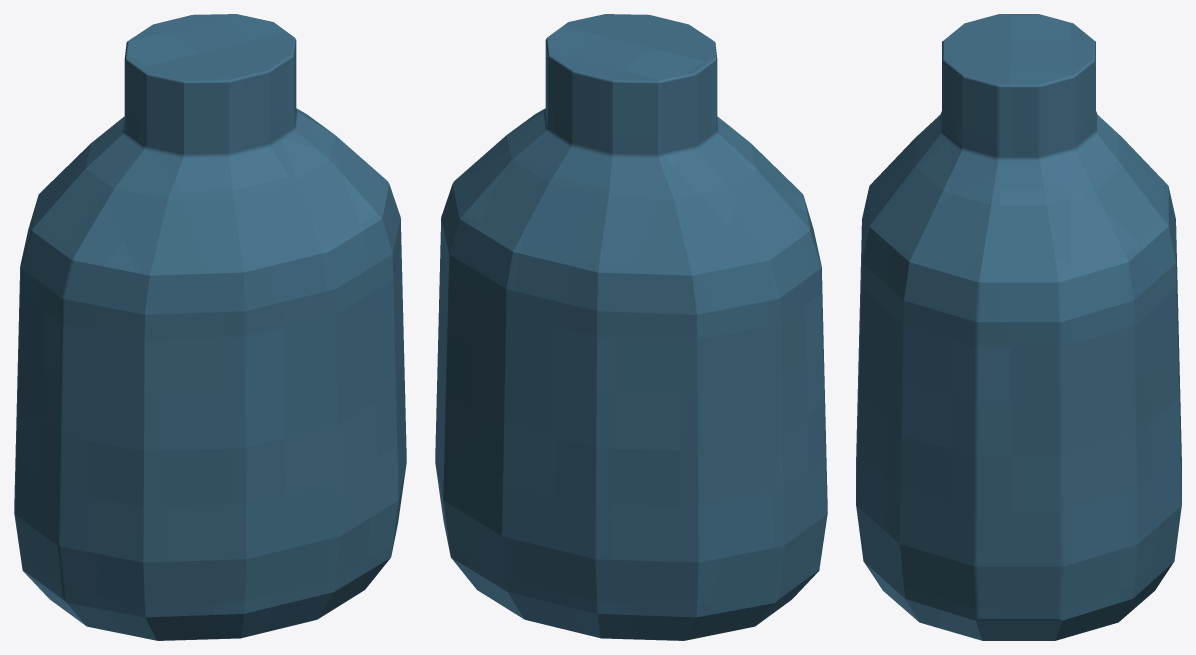
Rendered from Vessel.glb.
3 views of the same model, side by side, from view 1: azimuth 30°, elevation 25°; view 2: azimuth 150°, elevation 25°; view 3: azimuth 270°, elevation 25° (orthographic).
Visible parts, largest first — view 1: Vessel; view 2: Vessel; view 3: Vessel.
Part boxes in pixels (<box>): Vessel: <box>14,14,406,640</box>; Vessel: <box>435,14,827,640</box>; Vessel: <box>856,14,1181,640</box>.
Size of the model in its own units: 0.2589 by 0.378 by 0.2125.
Materials: 1 (1 with a texture image).
